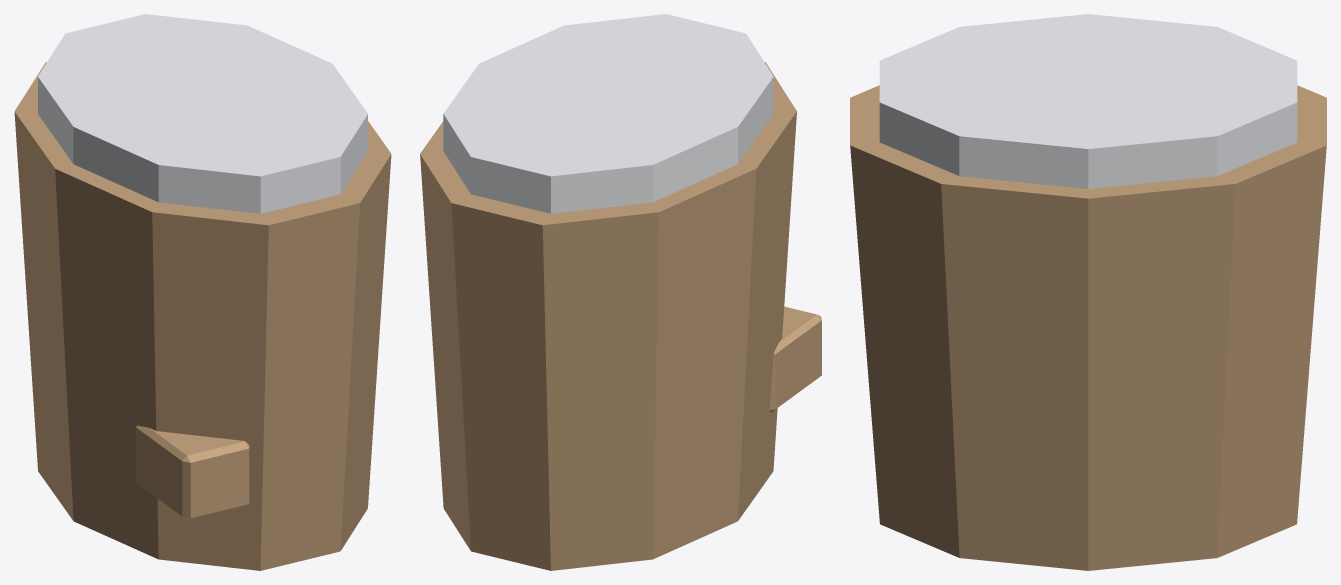
Rendered from b17_vented_bicycle_helmet.glb.
3 views of the same model, side by side, from view 1: azimuth 30°, elevation 25°; view 2: azimuth 150°, elevation 25°; view 3: azimuth 270°, elevation 25° (orthographic). The views are drawn at different scales.
Parts seen in each view (by area): view 1: b17_vented_bicycle_helmet; view 2: b17_vented_bicycle_helmet; view 3: b17_vented_bicycle_helmet.
Part boxes in pixels (left/top/right/bottom): b17_vented_bicycle_helmet: left=14, top=14, right=391, bottom=570; b17_vented_bicycle_helmet: left=420, top=14, right=821, bottom=570; b17_vented_bicycle_helmet: left=850, top=14, right=1326, bottom=570.
Bounding box in the file's own units: 0.229 × 0.292 × 0.299.
